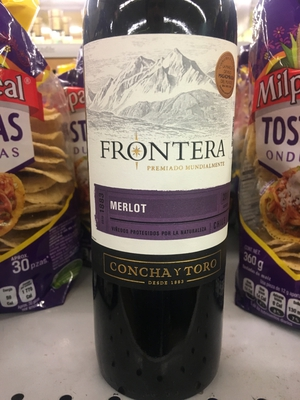frontera merlot: (80, 1, 246, 374)
